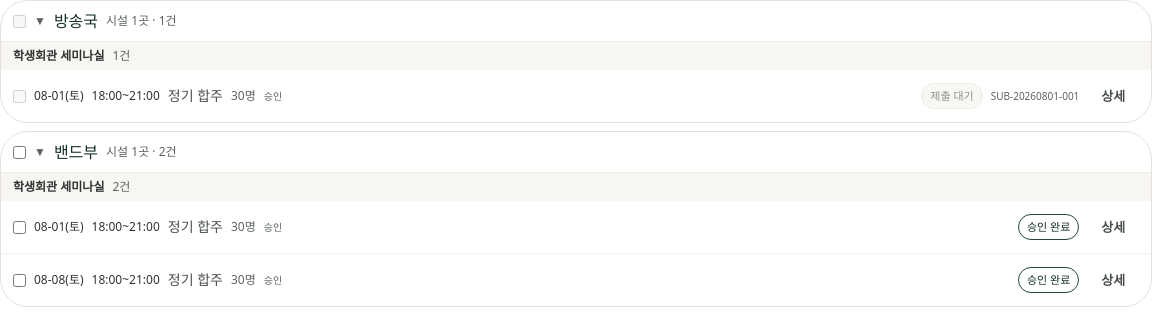
Test: SubmissionClubGroupList › 그룹 접기 버튼은 행을 숨기고 aria-expanded 를 갱신한다
Step 1. Click the button "▼ 밴드부 시설 1곳 · 2건" → (76, 152), box [34, 140, 1139, 164]
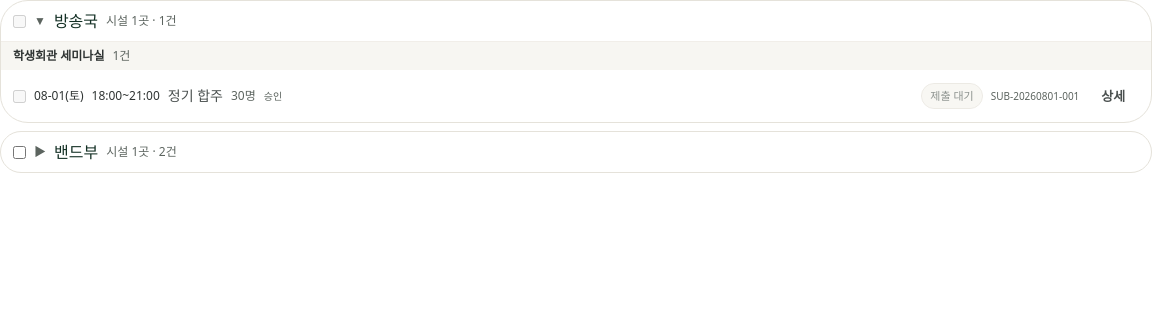
Check: the button "▶ 밴드부 시설 1곳 · 2건" is collapsed, box [34, 140, 1139, 164]
